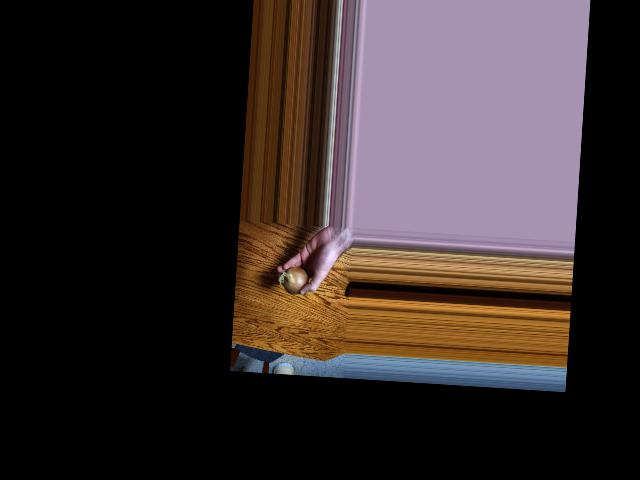onion: (282, 264, 309, 295)
